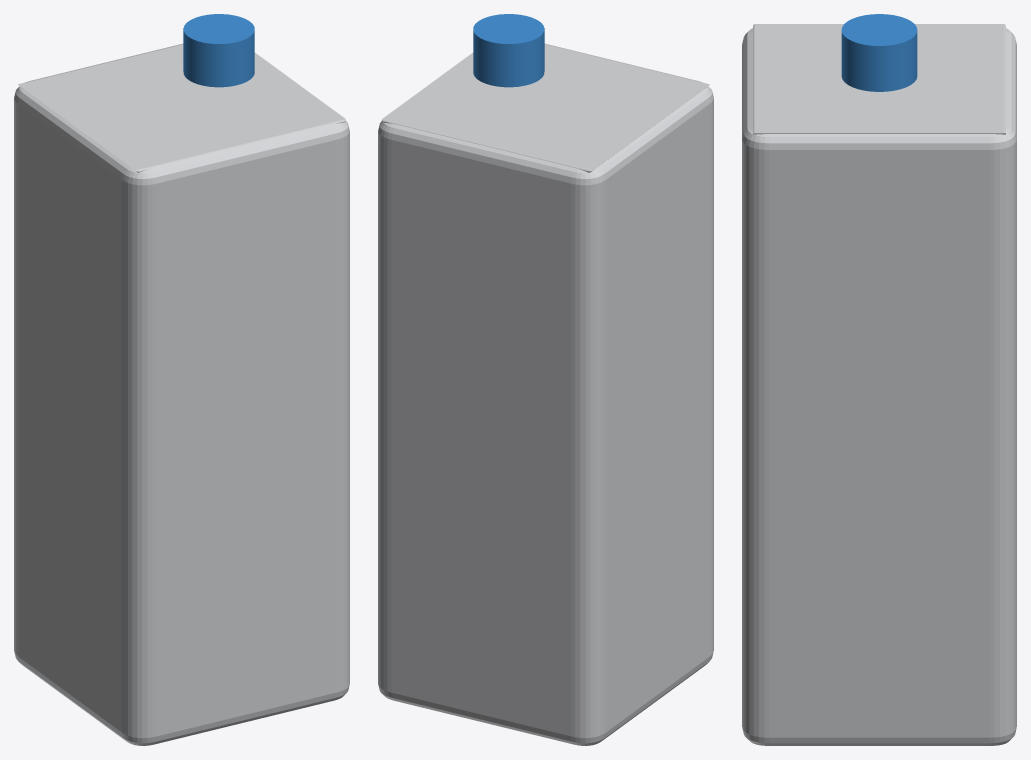
The model's file is bibite-acquainbrick.glb.
3 renders of one model, left to right at view 1: azimuth 30°, elevation 25°; view 2: azimuth 150°, elevation 25°; view 3: azimuth 270°, elevation 25°, orthographic. The views are drawn at different scales.
Bounding box in the file's own units: 0.0651 × 0.178 × 0.0651.
